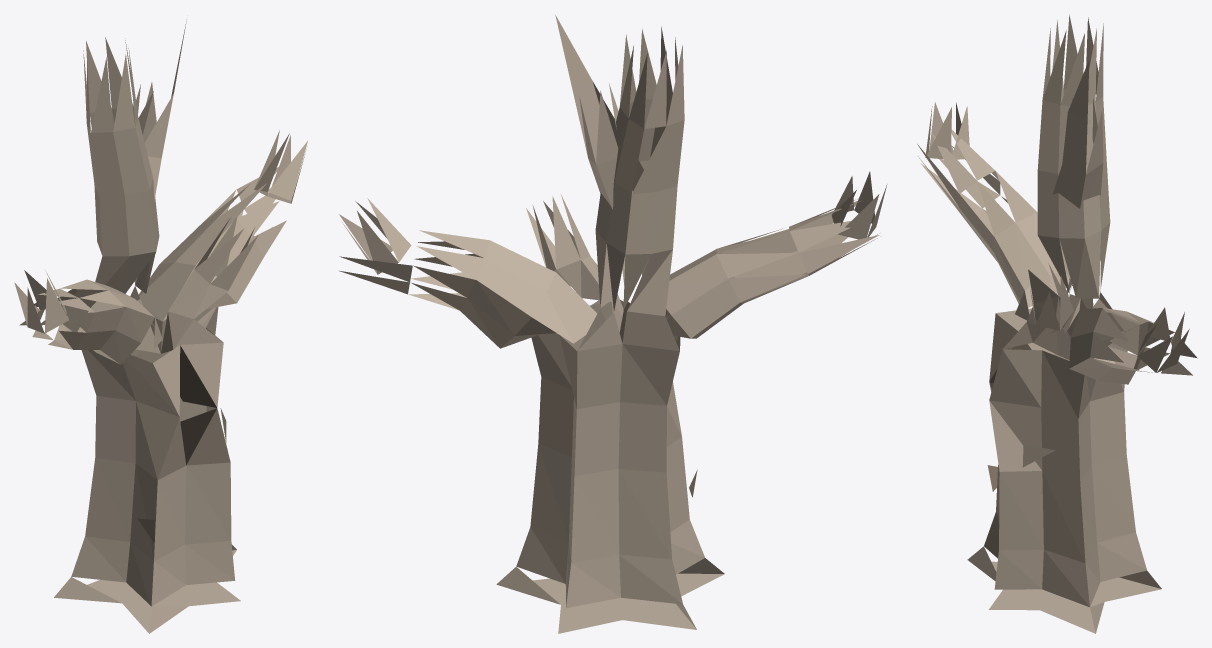
File: palm_0.lod.glb
3 renders of one model, left to right at view 1: azimuth 30°, elevation 25°; view 2: azimuth 150°, elevation 25°; view 3: azimuth 270°, elevation 25°, orthographic. The views are drawn at different scales.
Parts seen in each view (by area): view 1: palm_0; view 2: palm_0; view 3: palm_0.
Part boxes in pixels (x1,y1,x2,y2): palm_0: (14, 19, 307, 633); palm_0: (339, 15, 887, 633); palm_0: (917, 14, 1197, 633).
Bounding box in the file's own units: 4.85 × 6.33 × 2.94.
